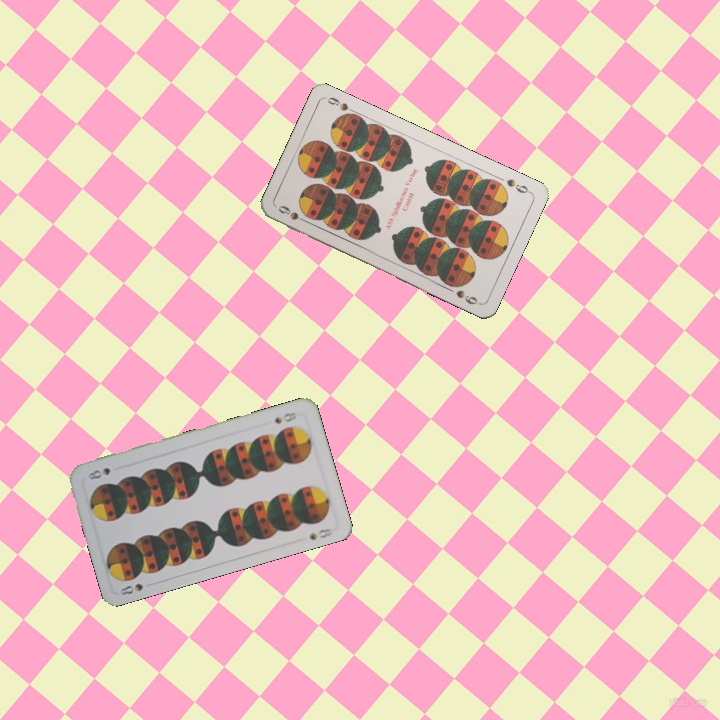S8: (116, 579, 156, 598), (270, 408, 299, 426)
S9: (274, 201, 312, 226), (502, 175, 533, 196)
